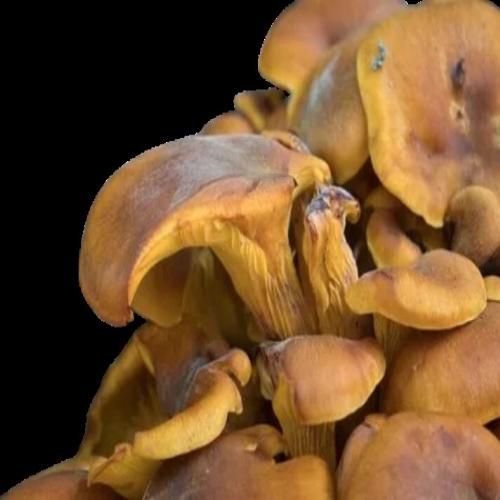Jack O Lantern Mushroom: (72, 113, 334, 346), (53, 296, 269, 500), (357, 0, 499, 226), (221, 293, 396, 475), (340, 238, 493, 355)
